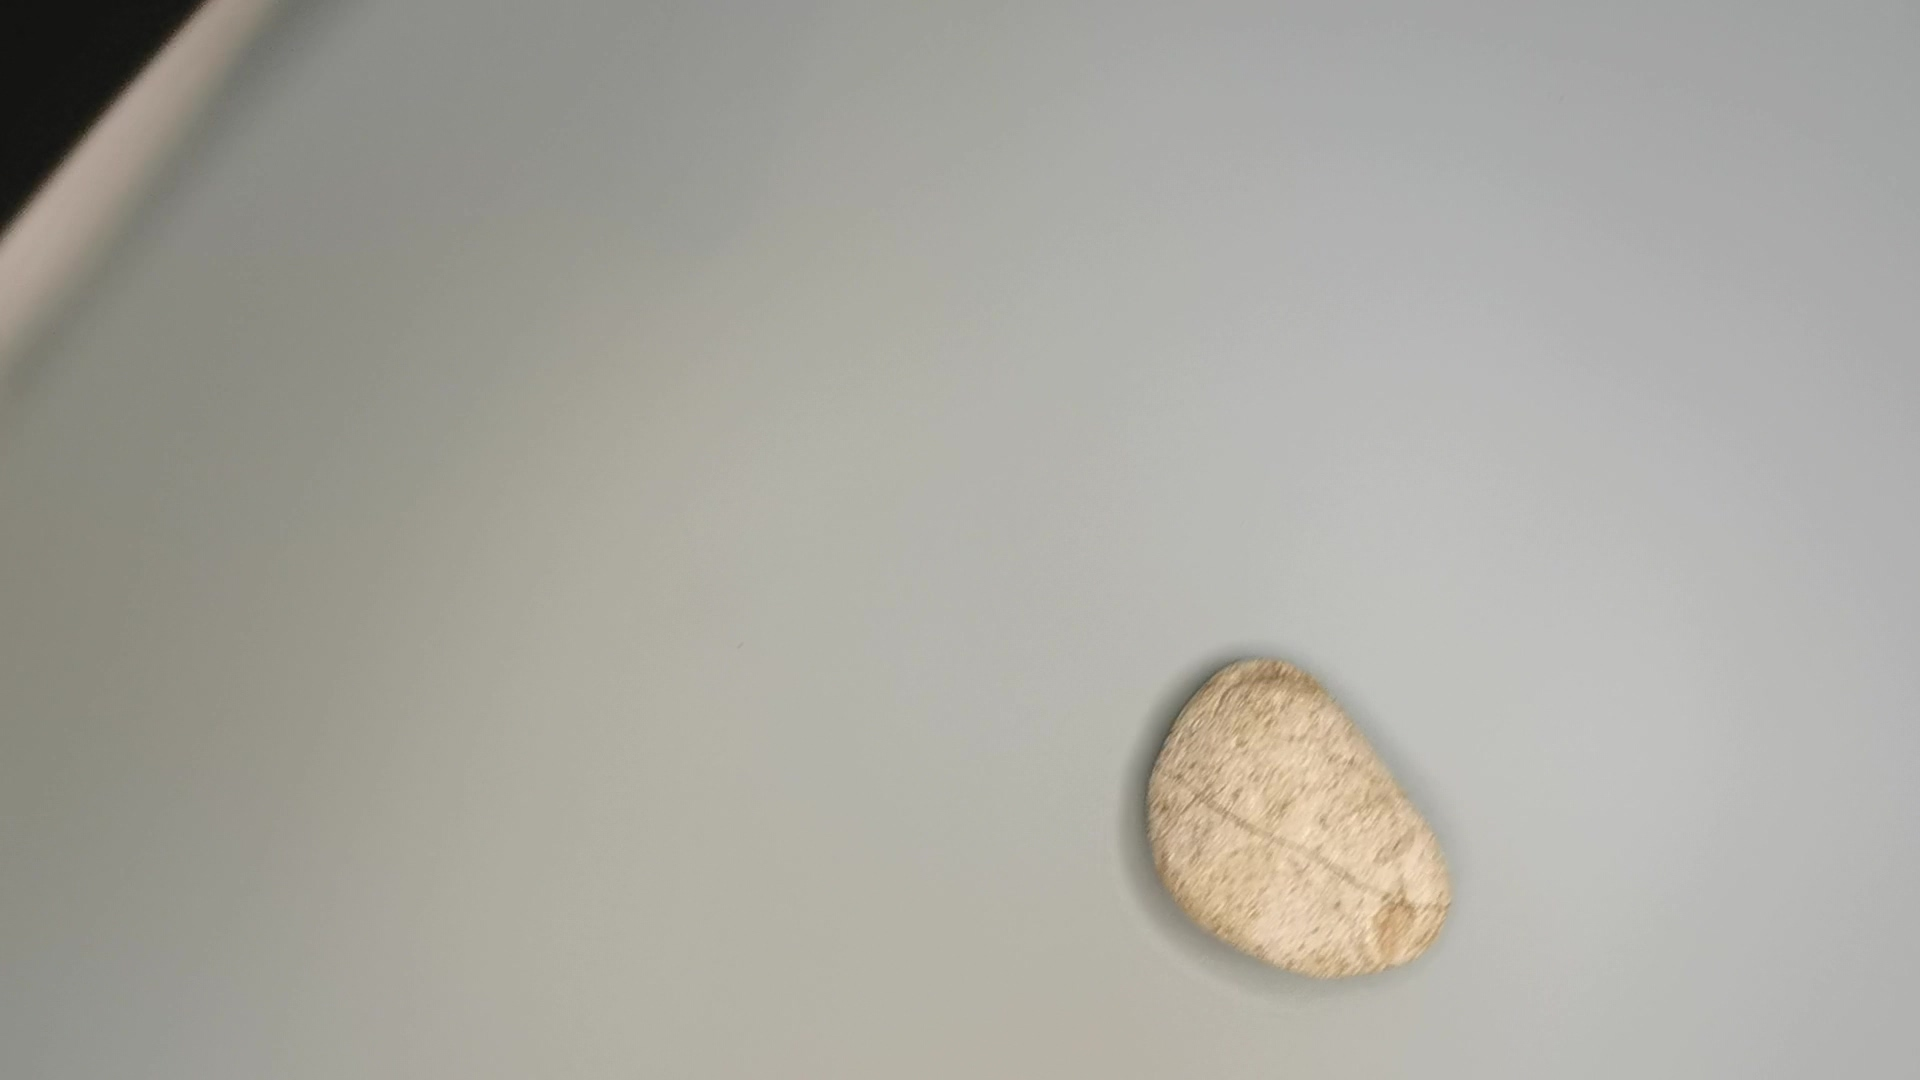ceramic: (1141, 654, 1455, 982)
